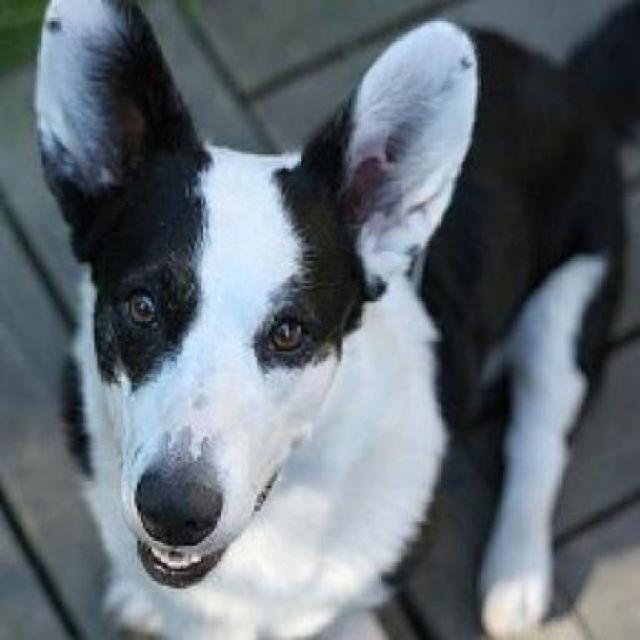Dog: (32, 0, 638, 638)
